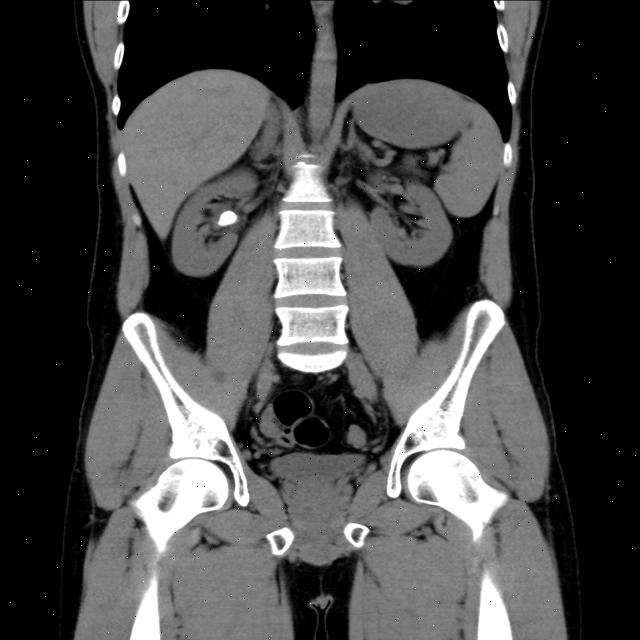kidneystone: (217, 210, 237, 226)
